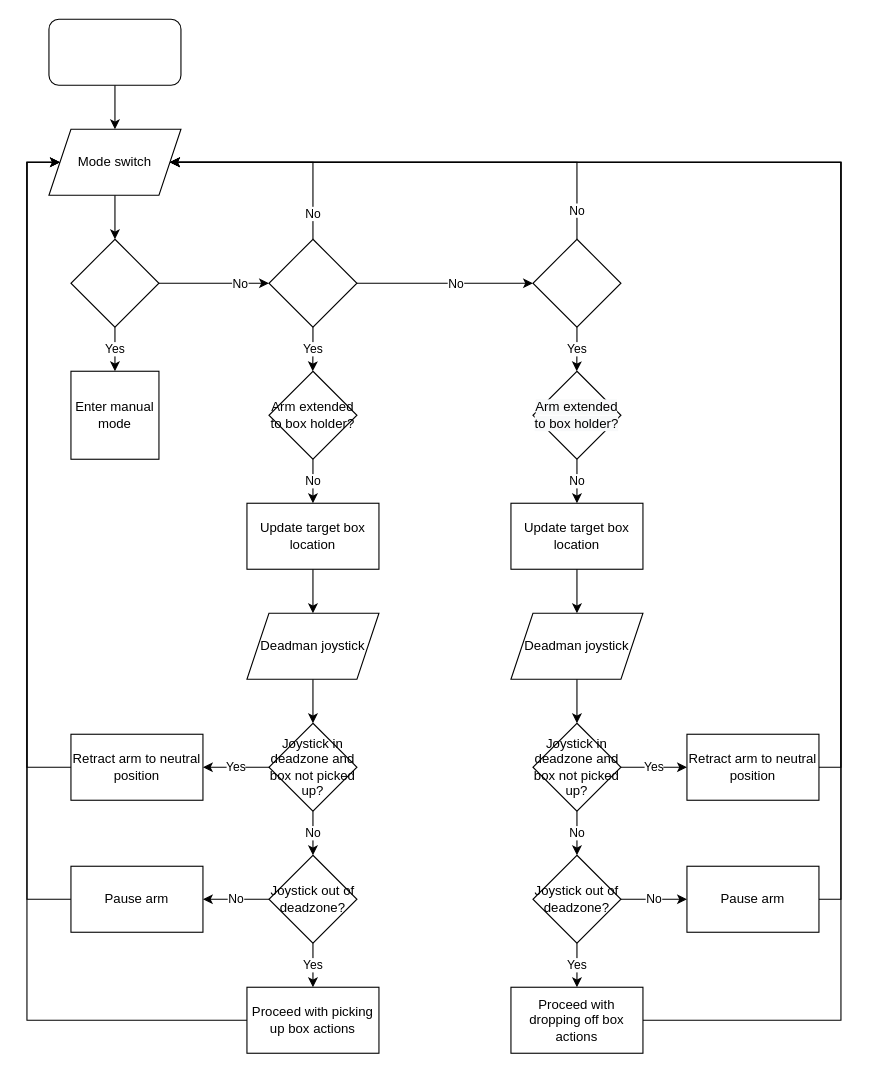
This 869x1073 diagram has some shape labels left out. The shapes that lost their labels are listed below. From the top down, each one's centre as x and y in pixels, then its label:
point 114,51: Start
point 114,282: Mode switch manual?
point 312,282: Mode switch pickup?
point 576,282: Mode switch dropoff?
